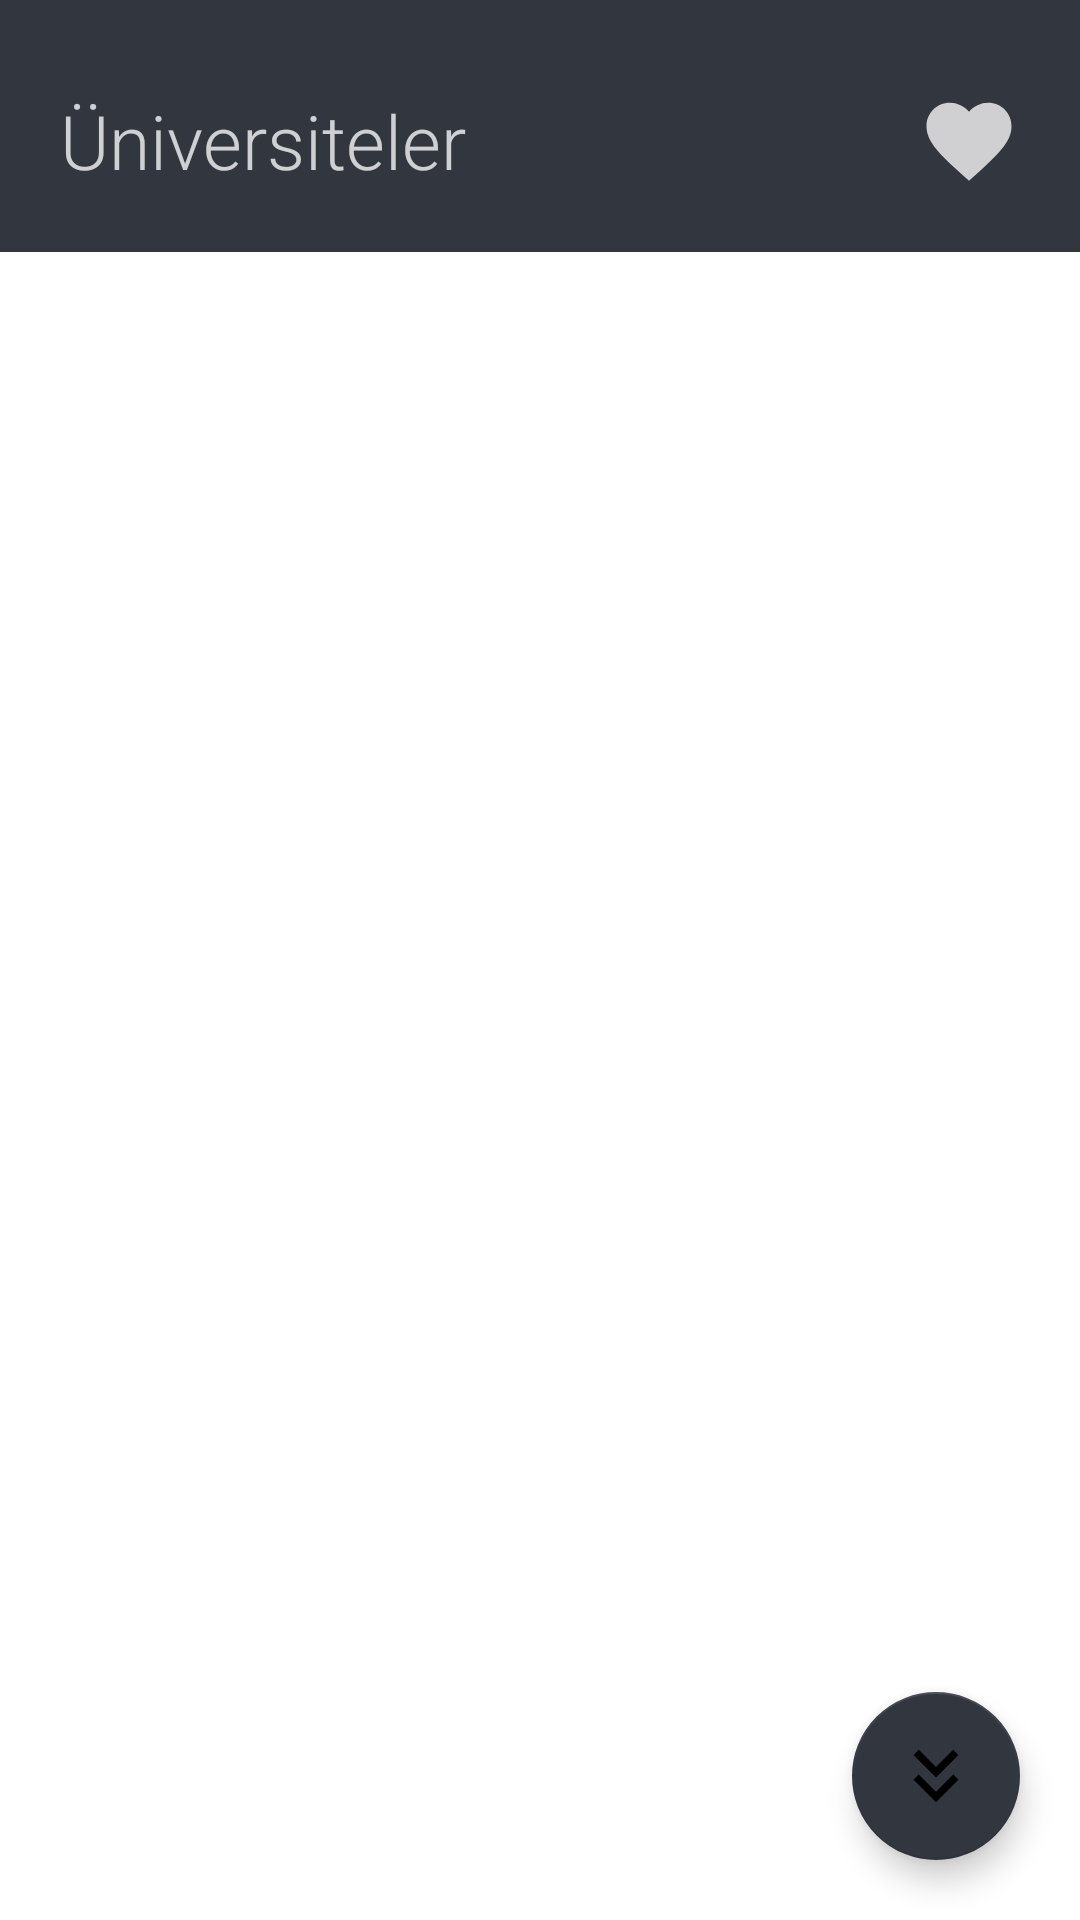

Where to tap for icons on this 1080px×1920px app screen, as (x,y):
added to favs: (969,141)
